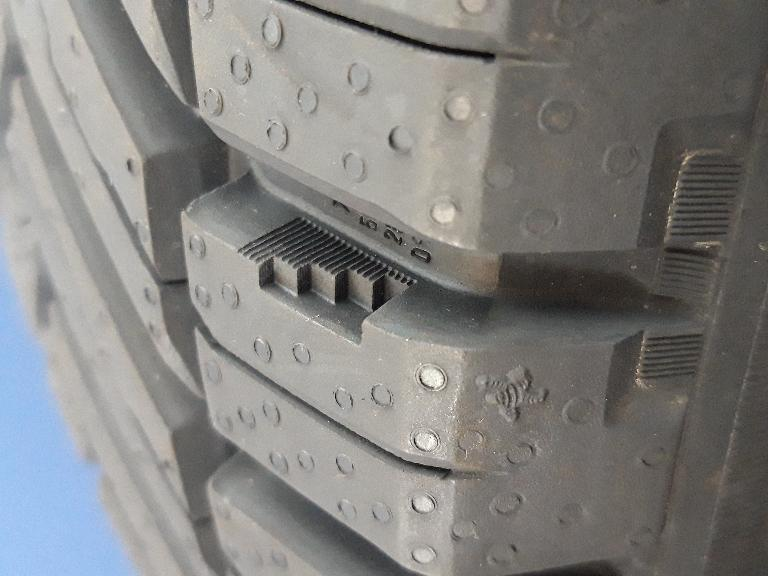temoin:100: (228, 207, 431, 359)
